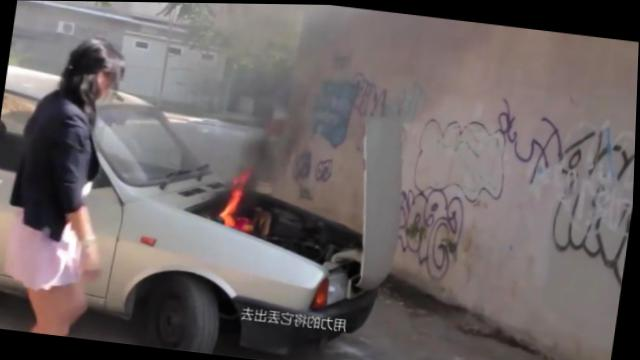fire: (223, 181, 246, 225)
